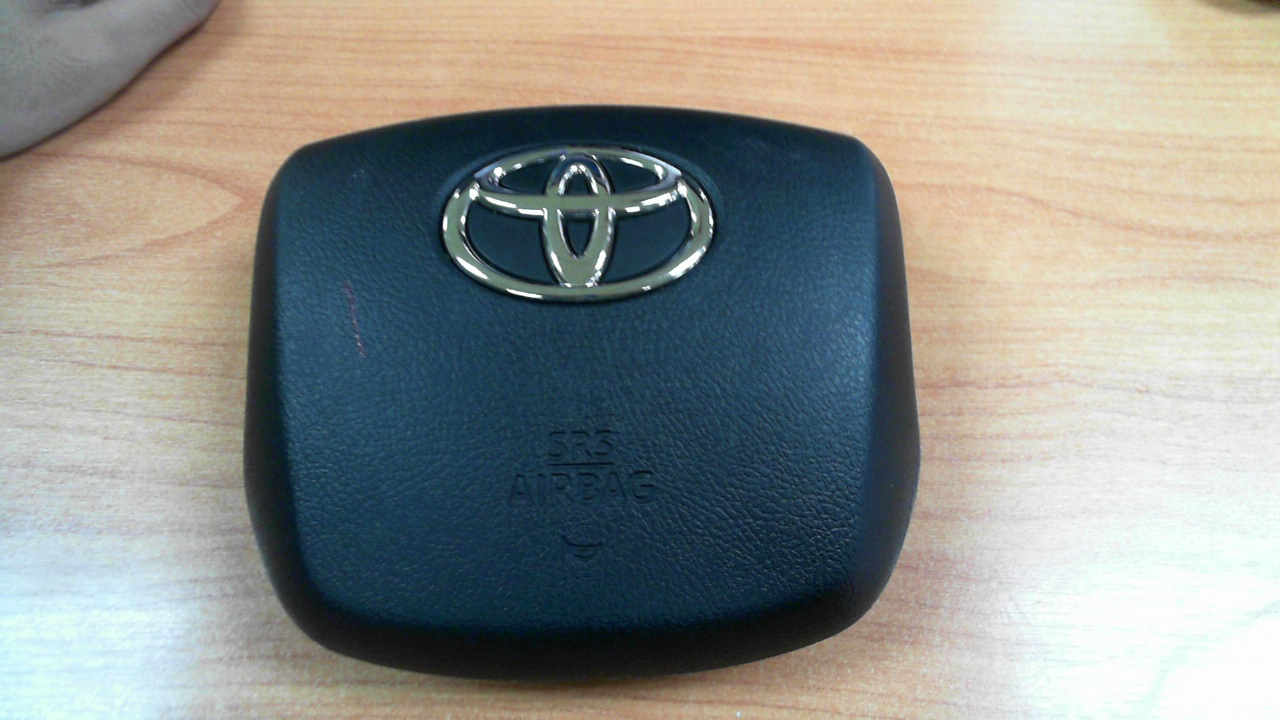Airbag: (242, 104, 921, 681)
Toyota: (442, 147, 715, 302)
